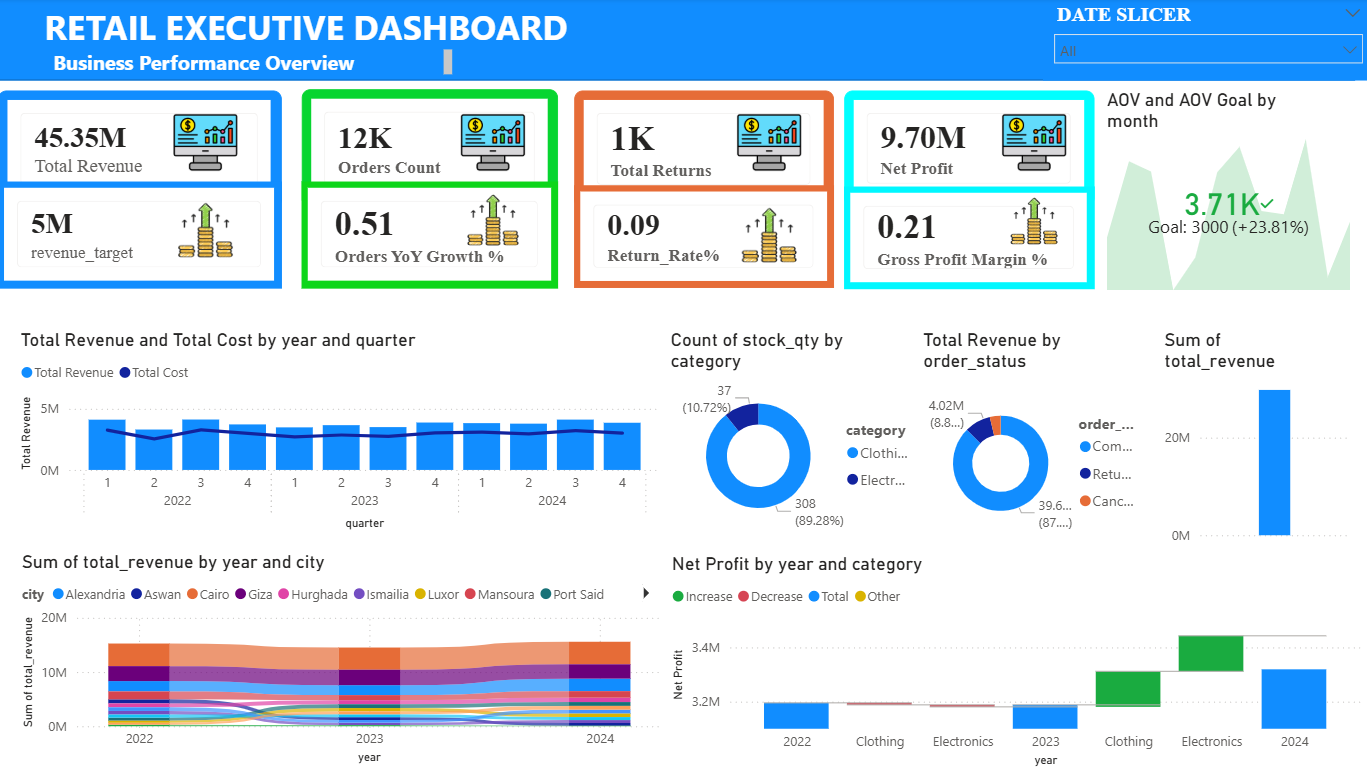

This screenshot's page, from the dashboard's own definition file:
{"tool":"powerbi","page":{"name":"Page 1","canvas":[1280,720],"ordinal":0},"visuals":[{"type":"cardVisual","fields":{"Data":["fact_orders.Total Revenue"]},"box":[0,86,264,109.3],"z":0},{"type":"cardVisual","fields":{"Data":["fact_orders.Orders Count"]},"box":[282.6,84.9,238.4,110.5],"z":1000},{"type":"cardVisual","fields":{"Data":["fact_orders.Total Returns"]},"box":[536,86,241.9,109.3],"z":2000},{"type":"cardVisual","fields":{"Data":["fact_orders.Net Profit"]},"box":[787.2,86,232.6,108.1],"z":3000},{"type":"shape","box":[0,0,1262.8,76.7],"z":4000},{"type":"textbox","box":[38.4,0,618.6,76.7],"z":5000},{"type":"textbox","box":[46.5,43,381.4,33.7],"z":6000},{"type":"ribbonChart","fields":{"Series":["dim_customers.city"],"Category":["dim_date.year"],"Y":["Sum(fact_orders.total_revenue)"]},"box":[17.4,514,604.7,203.5],"z":7000},{"type":"lineClusteredColumnComboChart","fields":{"Category":["dim_date.year","dim_date.quarter"],"Y":["fact_orders.Total Revenue"],"Y2":["fact_orders.Total Cost"]},"box":[16.3,308.1,604.7,191.9],"z":8000},{"type":"donutChart","fields":{"Category":["dim_products.category"],"Y":["CountNonNull(dim_products.stock_qty)"]},"box":[620.9,308.1,243,194.2],"z":9000},{"type":"donutChart","fields":{"Y":["fact_orders.Total Revenue"],"Category":["fact_orders.order_status"]},"box":[855.8,308.1,216.3,208.1],"z":10000},{"type":"waterfallChart","fields":{"Category":["dim_date.year"],"Breakdown":["dim_products.category"],"Y":["fact_orders.Net Profit"]},"box":[622.1,516.3,651.2,203.5],"z":11000},{"type":"clusteredColumnChart","fields":{"Y":["Sum(fact_orders_2022_2023.total_revenue)"]},"box":[1080.2,308.1,182.6,205.8],"z":12000},{"type":"slicer","fields":{"Values":["dim_date.full_date","dim_date.year","dim_date.quarter","dim_date.month","dim_date.day"]},"box":[972.1,0,308.1,76.7],"z":13000},{"type":"kpi","fields":{"Indicator":["fact_orders.AOV"],"TrendLine":["dim_date.month"],"Goal":["dim_customers.AOV Goal"]},"box":[1026.7,84.9,236,191.9],"z":14000},{"type":"cardVisual","fields":{"Data":["fact_orders.revenue_target"]},"box":[0,170.9,264,98.8],"z":15000},{"type":"cardVisual","fields":{"Data":["fact_orders.Orders YoY Growth %"]},"box":[282.6,170.9,238.4,98.8],"z":16000},{"type":"cardVisual","fields":{"Data":["fact_orders.Return_Rate%"]},"box":[536,174.4,241.9,95.3],"z":17000},{"type":"cardVisual","fields":{"Data":["fact_orders.Gross Profit Margin %"]},"box":[787.2,175.6,232.6,95.3],"z":18000},{"type":"image","box":[132.6,101.2,120.9,66.3],"z":19000},{"type":"image","box":[903.5,101.2,120.9,66.3],"z":20000},{"type":"image","box":[657,101.2,120.9,66.3],"z":21000},{"type":"image","box":[400,101.2,120.9,66.3],"z":22000},{"type":"image","box":[434.9,182.6,51.2,47.7],"z":23000},{"type":"image","box":[941.9,181.4,44.2,52.3],"z":24000},{"type":"image","box":[167.4,189.5,51.2,52.3],"z":25000},{"type":"image","box":[691.9,194.2,51.2,52.3],"z":26000}]}

Visuals, with their boxes in screenshot pixels (x1, y1, x2, y2), scaled from the page's 1280x720 canvas onto the 1367x768 screenshot:
cardVisual - fact_orders.Total Revenue: region(0, 92, 282, 208)
cardVisual - fact_orders.Orders Count: region(302, 91, 556, 208)
cardVisual - fact_orders.Total Returns: region(572, 92, 831, 208)
cardVisual - fact_orders.Net Profit: region(841, 92, 1089, 207)
shape: region(0, 0, 1349, 82)
textbox: region(41, 0, 702, 82)
textbox: region(50, 46, 457, 82)
ribbonChart - dim_customers.city x dim_date.year: region(19, 548, 664, 765)
lineClusteredColumnComboChart - dim_date.year x dim_date.quarter: region(17, 329, 663, 533)
donutChart - dim_products.category x CountNonNull(dim_products.stock_qty): region(663, 329, 923, 536)
donutChart - fact_orders.Total Revenue x fact_orders.order_status: region(914, 329, 1145, 551)
waterfallChart - dim_date.year x dim_products.category: region(664, 551, 1360, 767)
clusteredColumnChart - Sum(fact_orders_2022_2023.total_revenue): region(1154, 329, 1349, 548)
slicer - dim_date.full_date x dim_date.year: region(1038, 0, 1366, 82)
kpi - fact_orders.AOV x dim_date.month: region(1096, 91, 1349, 295)
cardVisual - fact_orders.revenue_target: region(0, 182, 282, 288)
cardVisual - fact_orders.Orders YoY Growth %: region(302, 182, 556, 288)
cardVisual - fact_orders.Return_Rate%: region(572, 186, 831, 288)
cardVisual - fact_orders.Gross Profit Margin %: region(841, 187, 1089, 289)
image: region(142, 108, 271, 179)
image: region(965, 108, 1094, 179)
image: region(702, 108, 831, 179)
image: region(427, 108, 556, 179)
image: region(464, 195, 519, 246)
image: region(1006, 193, 1053, 249)
image: region(179, 202, 233, 258)
image: region(739, 207, 794, 263)
